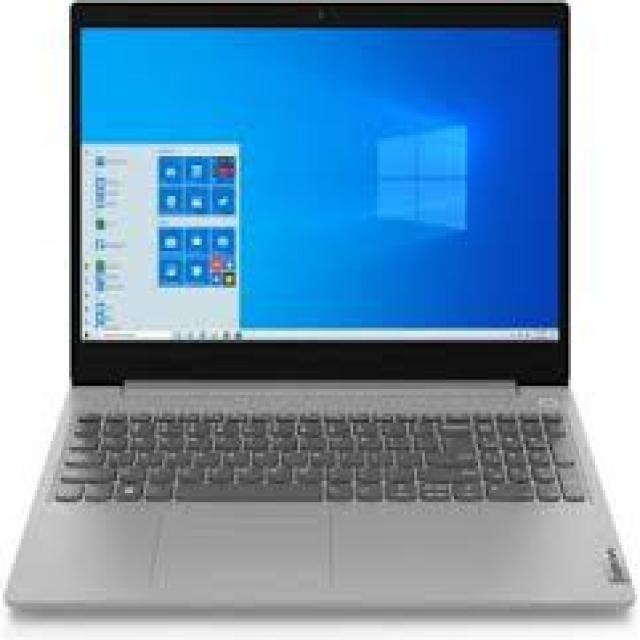others: (3, 3, 632, 619)
